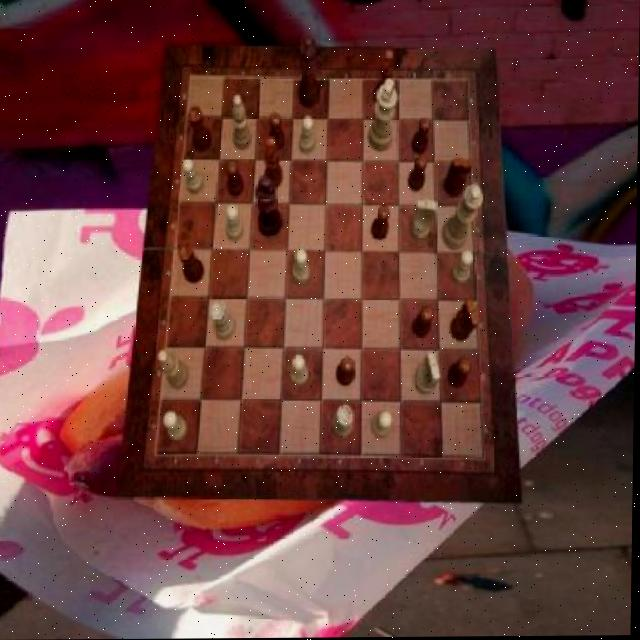bishop: (374, 50, 395, 108), (264, 137, 284, 189)
black-bishop: (256, 175, 284, 237)
black-king: (453, 298, 482, 341), (445, 159, 473, 198)
black-knight: (449, 359, 473, 390), (226, 160, 245, 196), (409, 156, 428, 192), (413, 307, 434, 339), (412, 118, 430, 155), (269, 112, 286, 151), (372, 207, 390, 241), (337, 358, 355, 387)
black-pawn: (299, 35, 323, 109)
black-queen: (178, 243, 206, 283), (189, 107, 213, 153)
black-rook: (160, 350, 190, 390), (232, 95, 253, 150)
white-bishop: (369, 79, 397, 152)
white-king: (415, 354, 442, 396), (412, 201, 437, 242)
white-knight: (452, 251, 475, 286), (182, 159, 205, 194), (165, 413, 190, 442), (226, 205, 244, 241), (300, 116, 316, 155), (294, 249, 311, 285), (291, 355, 309, 388), (373, 411, 394, 437)
white-pawn: (443, 185, 485, 251)
white-queen: (211, 302, 236, 340), (333, 405, 356, 440)
